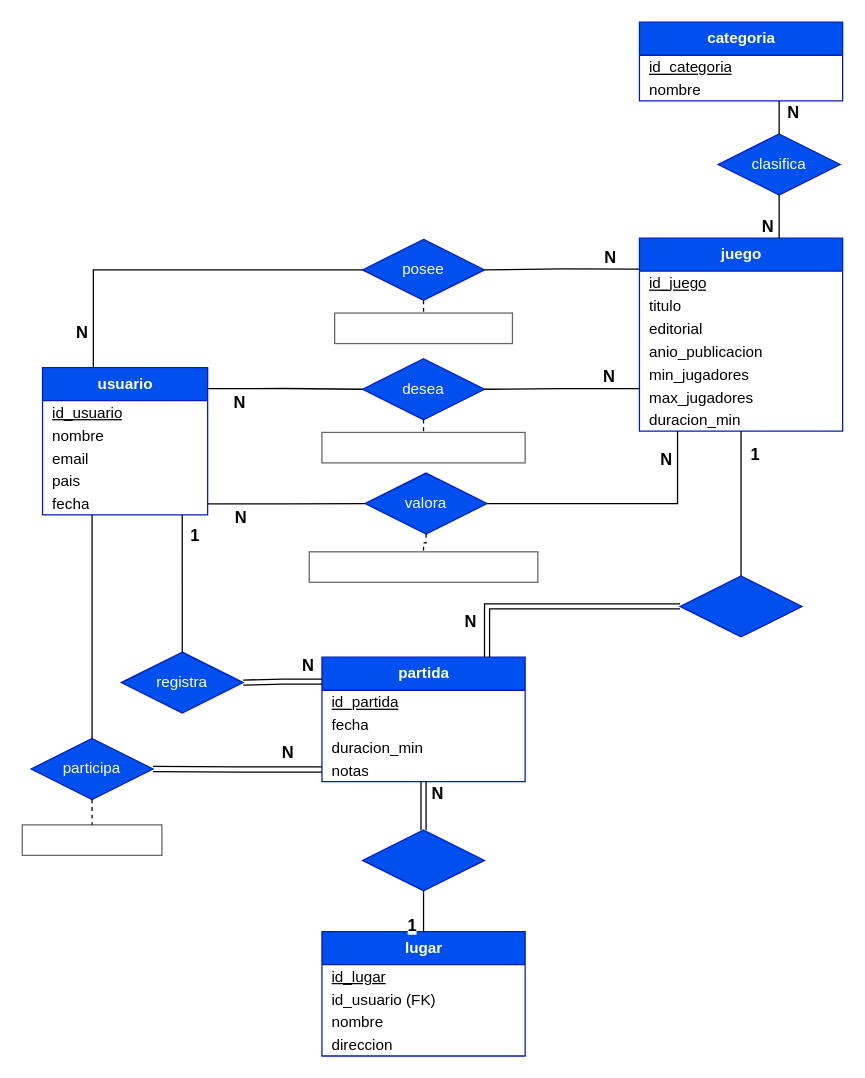
This 865x1078 diagram has some shape labels left out. Here are the shapes that lost their labels. From the top down, the centre of each, then its label:
At (422,328): "fecha, estado".
At (423,447): "prioridad, fecha".
At (423,566): "calificacion, comentario".
At (740,606): "de_juego".
At (91,839): "puntos, ganador".
At (423,860): "ocurre_en".
